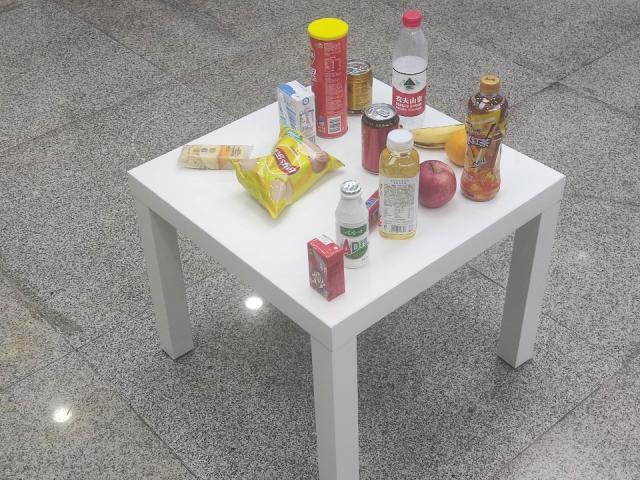Canned_drinks: (362, 103, 399, 174), (344, 57, 375, 114)
bottle: (382, 3, 436, 118)
cylinder: (304, 15, 354, 144)
drink_box: (290, 231, 351, 303), (270, 76, 320, 150)
